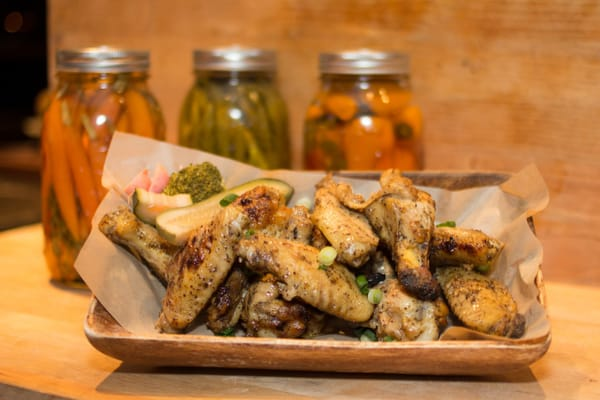curry: (162, 160, 224, 203)
